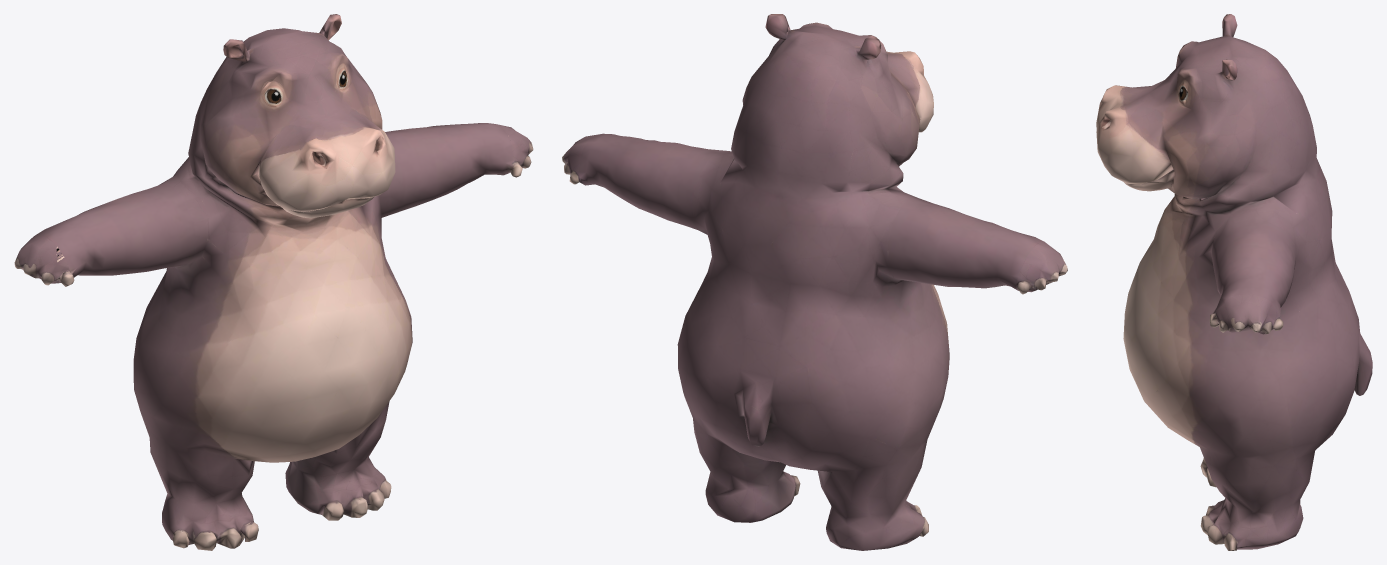
File: hippo-arms.glb
3 renders of one model, left to right at view 1: azimuth 30°, elevation 25°; view 2: azimuth 150°, elevation 25°; view 3: azimuth 270°, elevation 25°, orthographic. The views are drawn at different scales.
Parts seen in each view (by area): view 1: hippo; view 2: hippo; view 3: hippo.
Boxes of the visible parts, x1=… form: hippo: x1=14, y1=14, x2=533, y2=550; hippo: x1=562, y1=14, x2=1067, y2=550; hippo: x1=1096, y1=14, x2=1372, y2=550.
Bounding box in the file's own units: 1.9 × 1.77 × 0.9536.
1 material, 1 textured.
